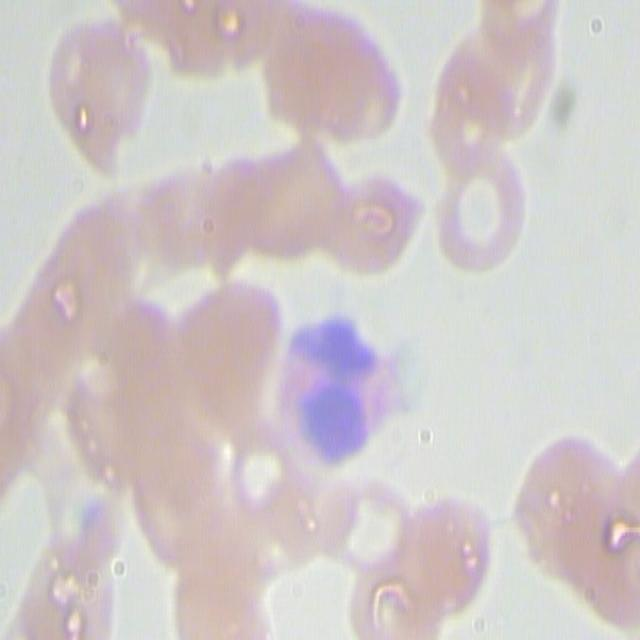RBC: (272, 288, 393, 511), (267, 0, 412, 159), (419, 5, 554, 174), (512, 428, 618, 587), (50, 2, 146, 172), (431, 147, 531, 280), (394, 486, 490, 624), (168, 282, 273, 406), (160, 525, 272, 637), (307, 476, 414, 580), (12, 538, 114, 638), (158, 0, 271, 87), (44, 457, 126, 566), (348, 552, 442, 638)
